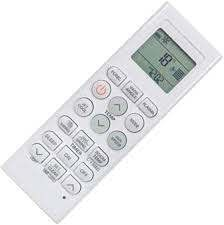remote control: (0, 8, 224, 225)
